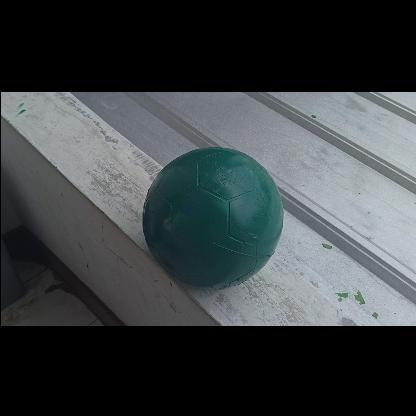green_ball: (143, 146, 285, 288)
